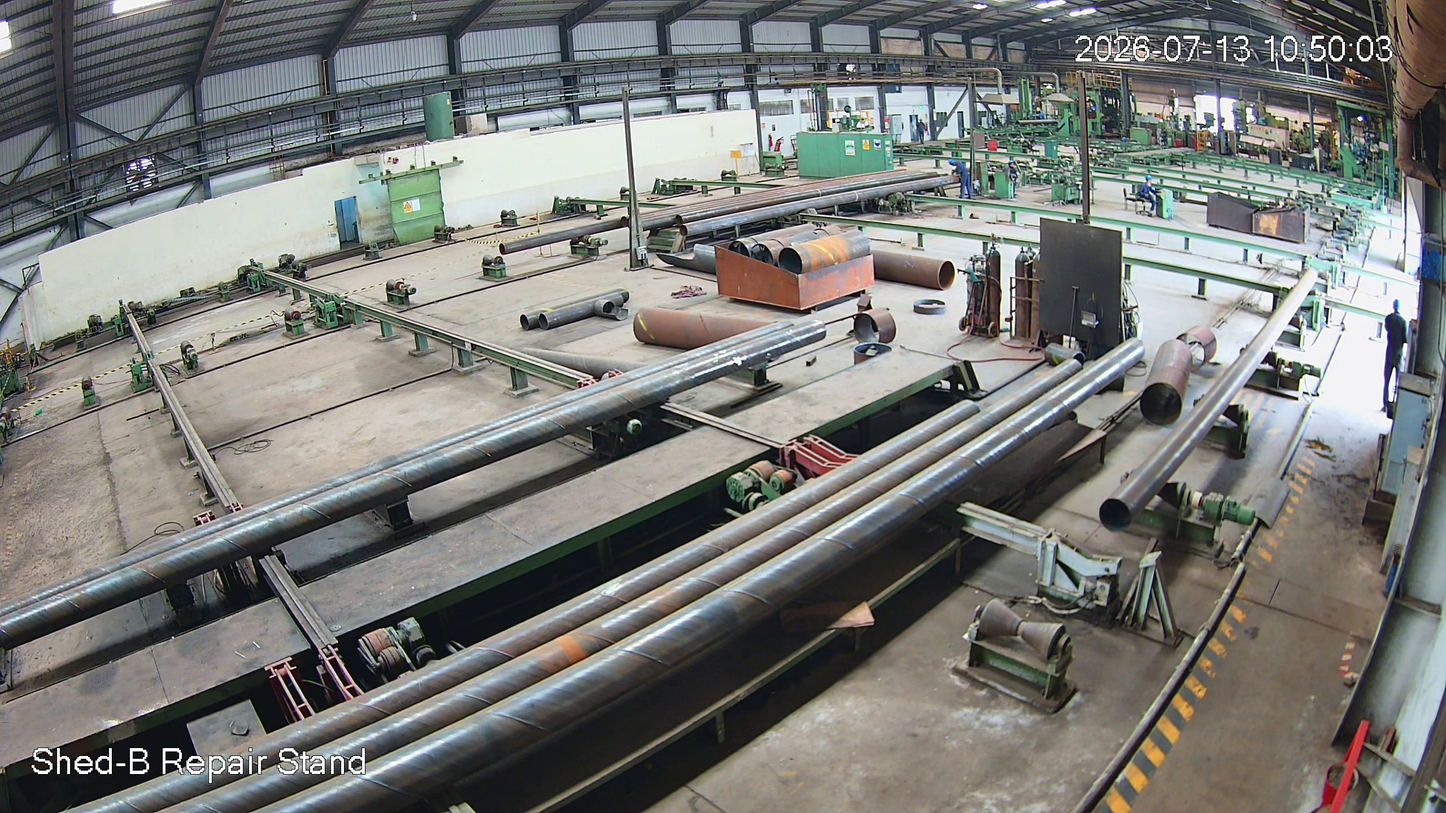Helmet: (1391, 297, 1407, 316)
Person: (1379, 299, 1407, 409)
